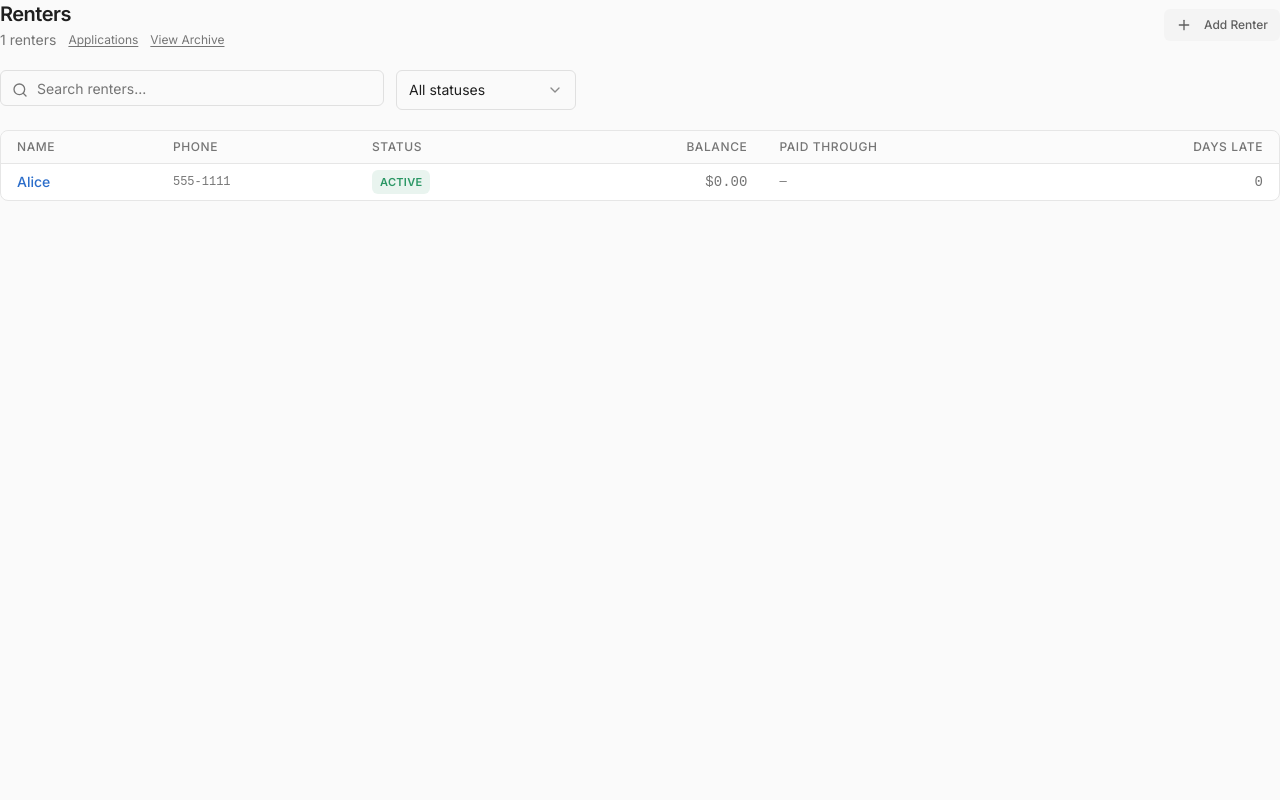
RentersList plan gating › shows a Growth upgrade prompt once Starter capacity is full
Click the button "Add Renter": x=1222, y=25 [1164,9,1279,41]
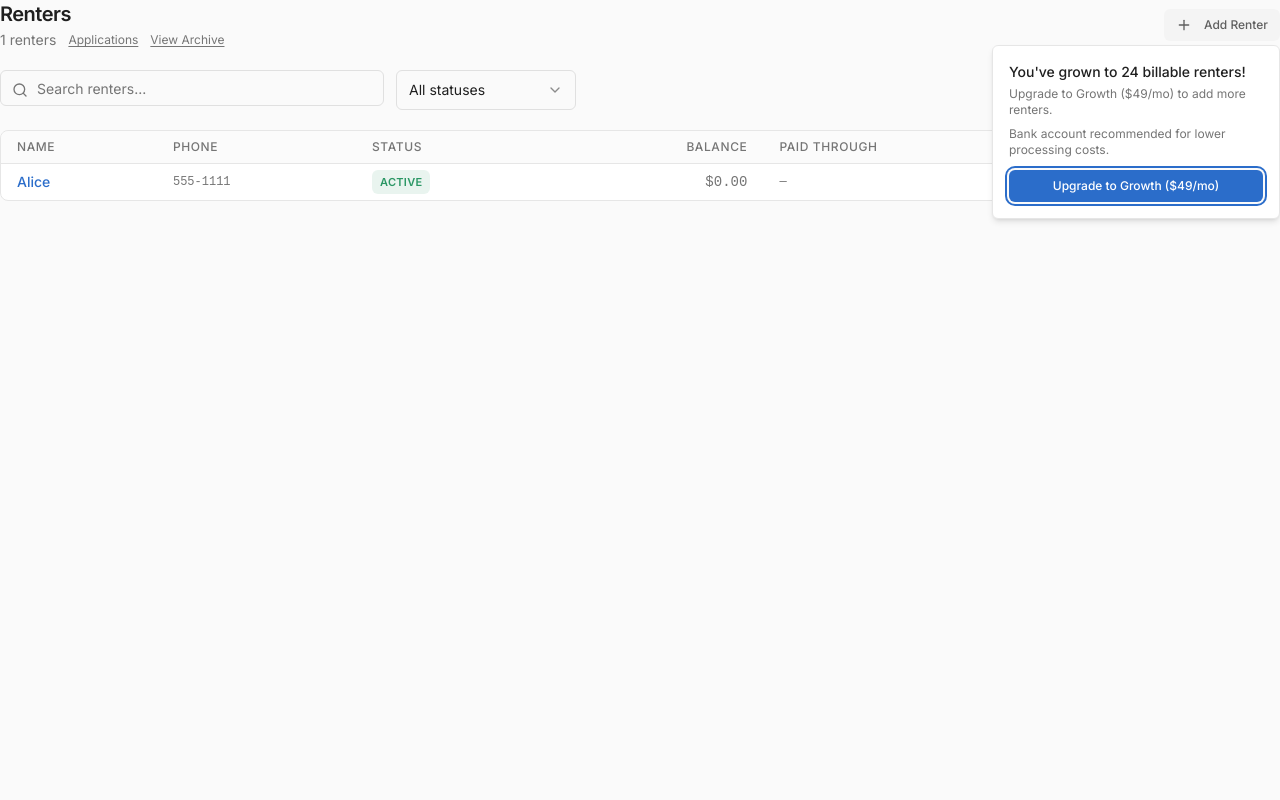
Check: the text "You've grown to 24 billable renters!" is shown, box [1009,62,1263,82]
Check: the button "Upgrade to Growth ($49/mo)" is shown, box [1009,170,1263,202]
